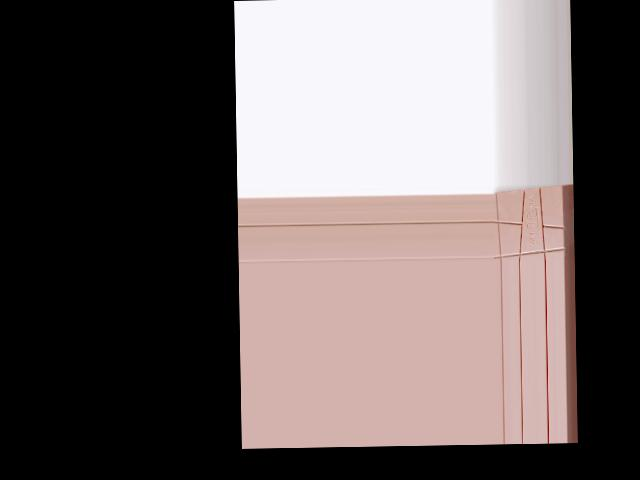chocolate: (492, 183, 568, 262)
